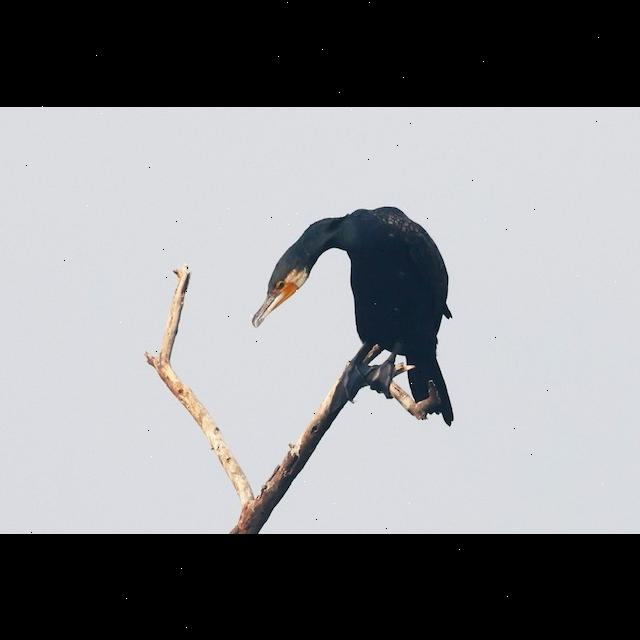cormorant: (252, 202, 454, 426)
